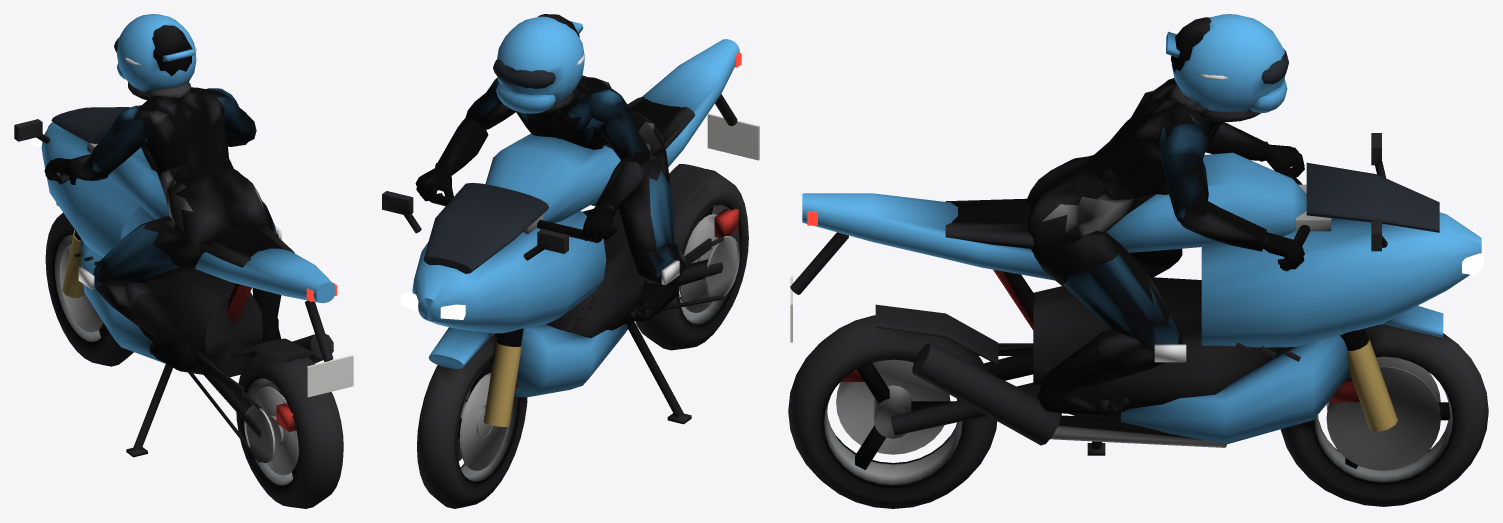
Rendered from raptor.glb.
3 views of the same model, side by side, from view 1: azimuth 30°, elevation 25°; view 2: azimuth 150°, elevation 25°; view 3: azimuth 270°, elevation 25° (orthographic). The views are drawn at different scales.
Visible parts, largest first — view 1: Body, Rider, Wheel_R, Wheel_F, RiderGear, Stand; view 2: Body, Rider, Wheel_F, Wheel_R, RiderGear, Stand; view 3: Body, Rider, Wheel_R, Wheel_F, RiderGear.
Boxes of the visible parts, x1,y1,x2,y2 form: Body: (14,107,353,463); Rider: (44,25,281,371); Wheel_R: (236,353,343,508); Wheel_F: (45,213,133,366); RiderGear: (78,14,281,289); Stand: (126,363,172,457); Body: (382,39,759,426); Rider: (415,14,685,321); Wheel_F: (417,335,527,508); Wheel_R: (635,169,748,350); RiderGear: (493,16,679,285); Stand: (628,321,691,424); Body: (790,133,1483,447); Rider: (1026,17,1304,415); Wheel_R: (788,315,997,508); Wheel_F: (1280,324,1488,506); RiderGear: (1154,14,1288,362).
Size of the model in its own units: 0.7917 by 1.54 by 2.
